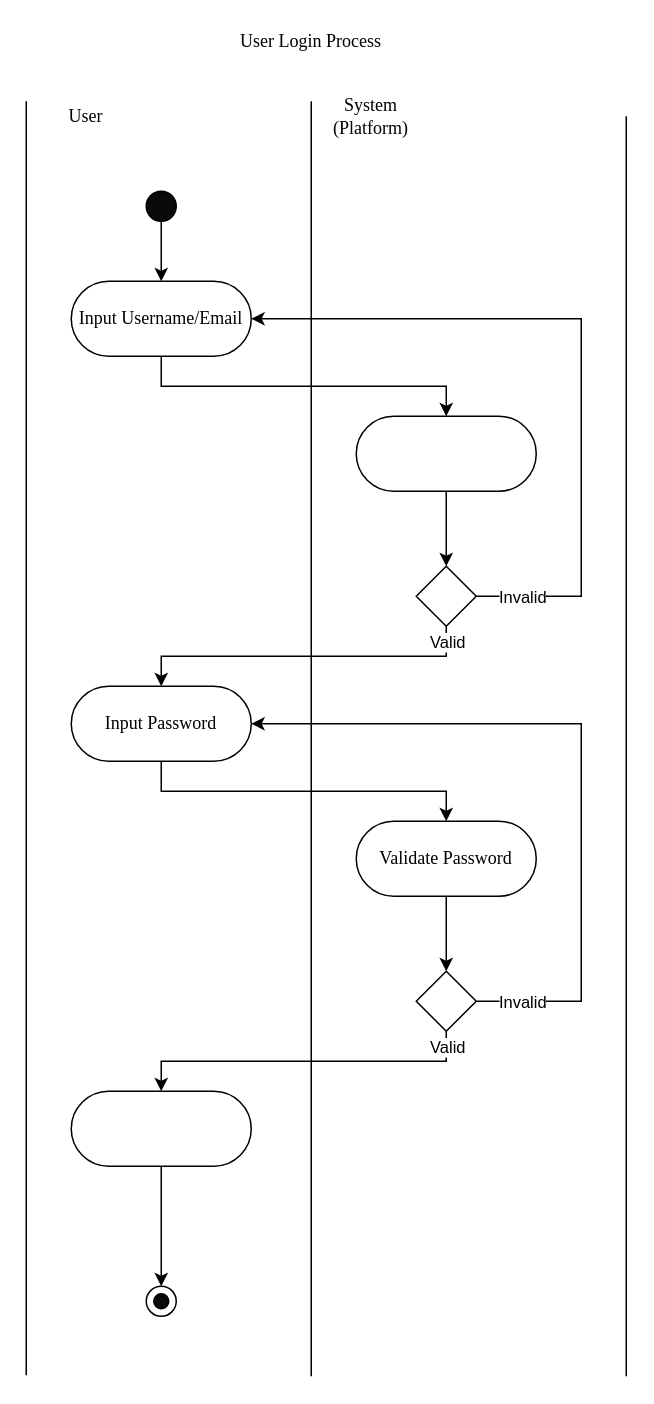
The diagram is 654 pixels wide and 1404 high, and some of its shapes have lost their labels. The box of each missing label's shape, as (x1, y1, x2, y2) in pixels:
Logged in: (70, 1090, 251, 1166)
Validate Email (If exist): (355, 415, 536, 491)
